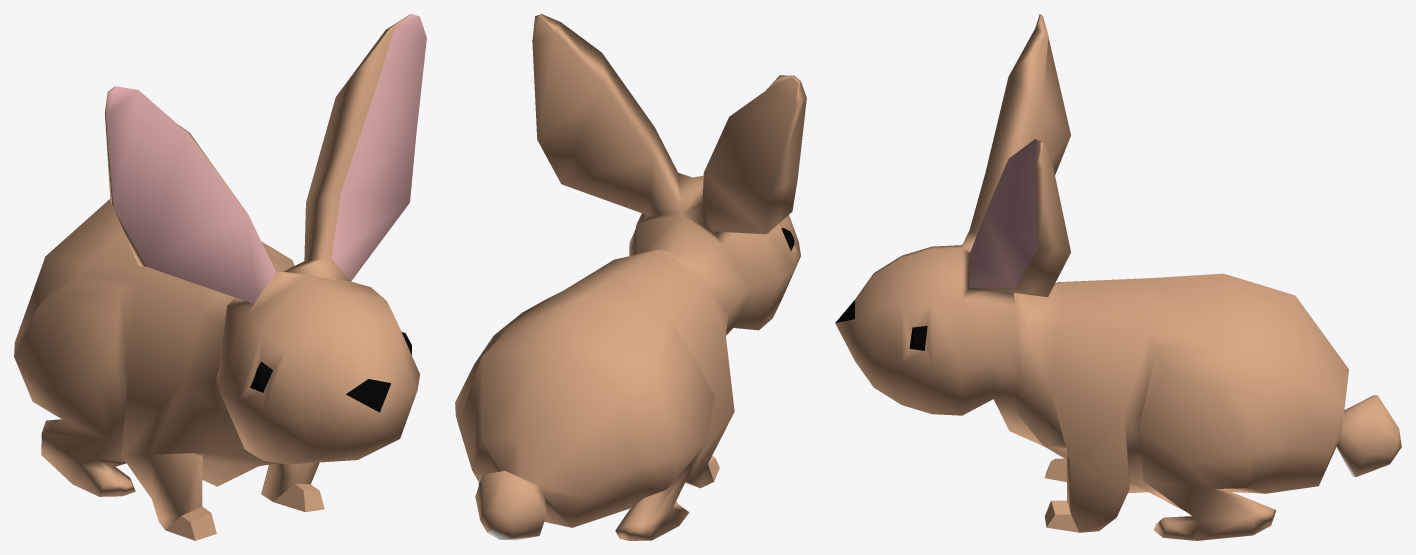
Rendered from rabbit_prototype1.fbx.
3 renders of one model, left to right at view 1: azimuth 30°, elevation 25°; view 2: azimuth 150°, elevation 25°; view 3: azimuth 270°, elevation 25°, orthographic. The views are drawn at different scales.
Parts seen in each view (by area): view 1: stylized1; view 2: stylized1; view 3: stylized1.
Part boxes in pixels (x1=…): stylized1: x1=14, y1=14, x2=426, y2=540; stylized1: x1=455, y1=14, x2=806, y2=540; stylized1: x1=835, y1=14, x2=1401, y2=540.
Size of the model in its own units: 3.8 by 5.44 by 6.58.
